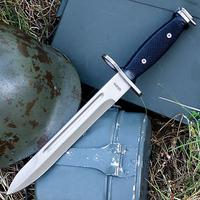knife: (5, 24, 180, 198)
